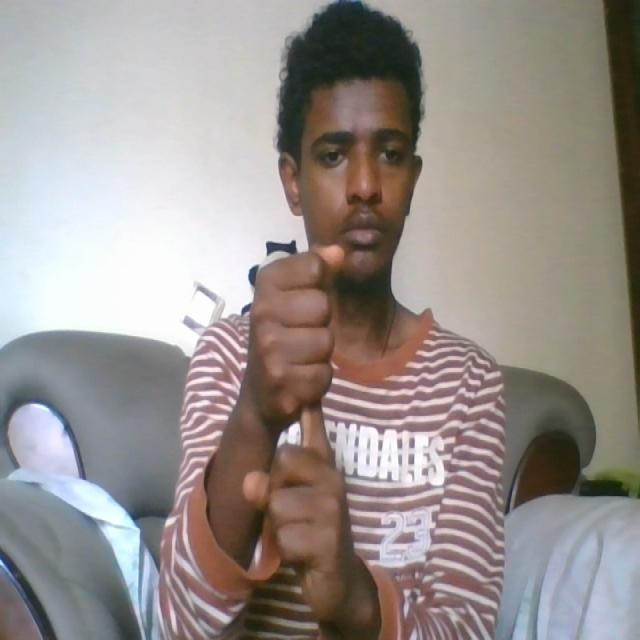meyaz: (241, 244, 353, 628)
